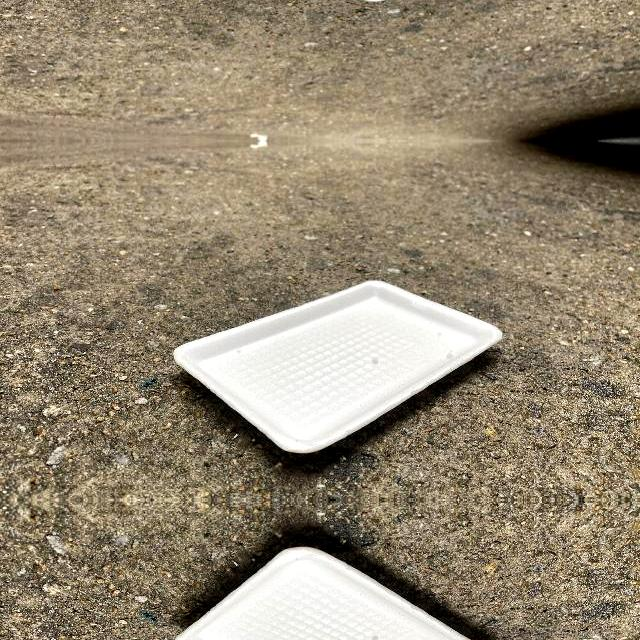Styrofoam: (172, 277, 504, 455), (174, 280, 502, 453), (172, 543, 504, 640), (175, 545, 473, 640)
